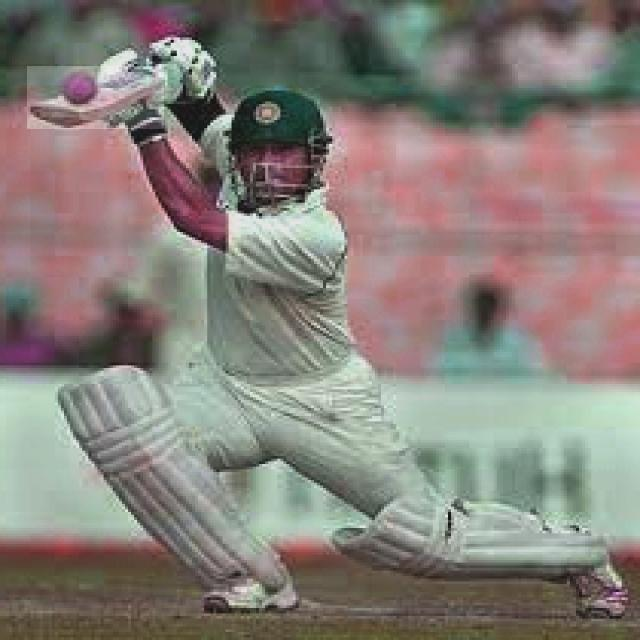bat: (26, 65, 163, 130)
toe: (31, 103, 86, 128)
